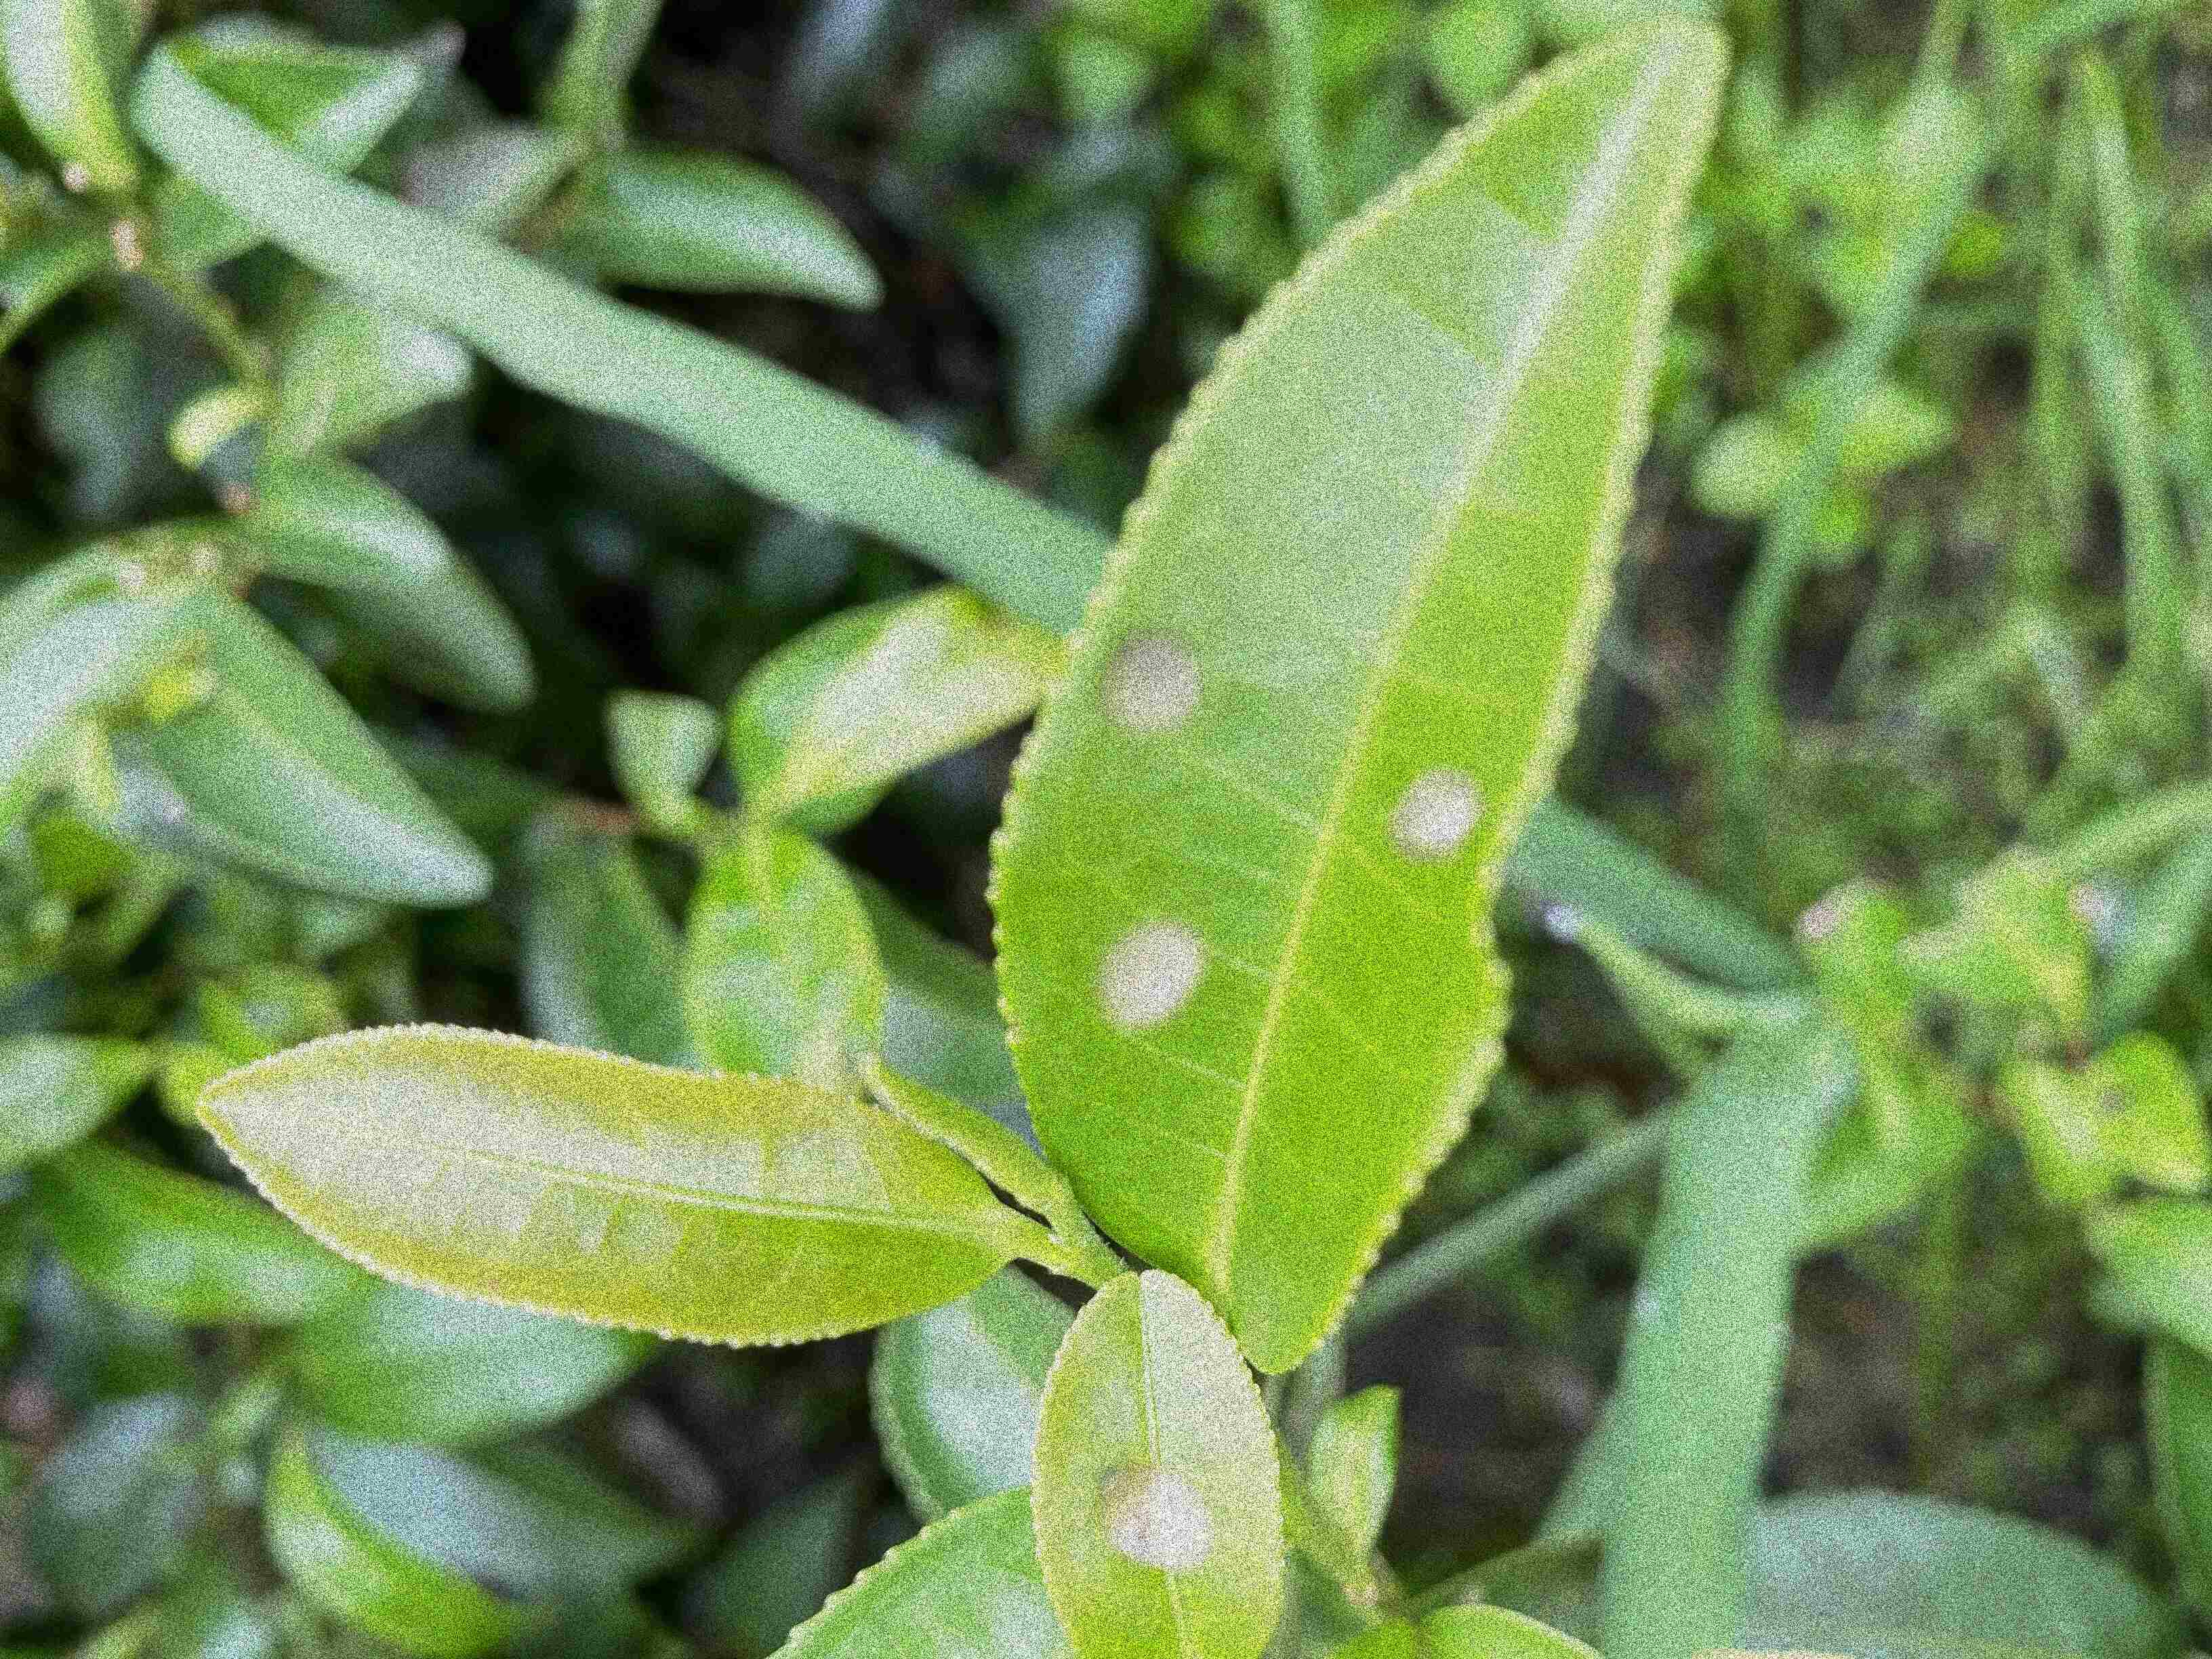chabing_high: (988, 24, 1730, 1373)
chabing_low: (1033, 1269, 1289, 1656)
tanju_low: (195, 1021, 1017, 1349)
